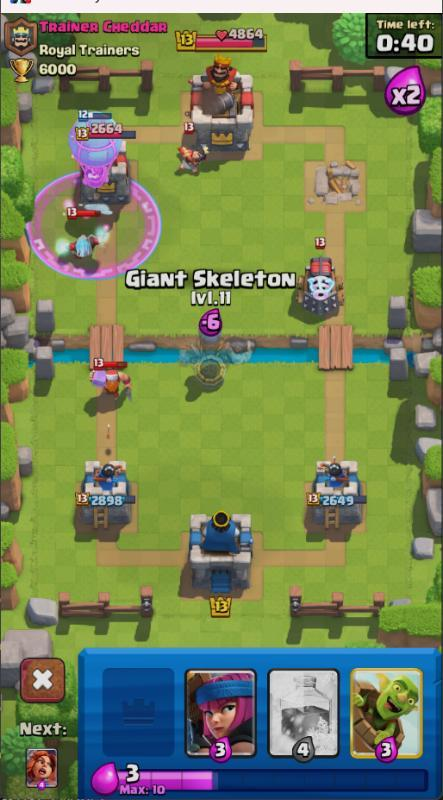enemy_ice_wizard: (57, 206, 111, 260)
enemy_lumberjack: (82, 354, 138, 401)
enemy_princess: (171, 141, 209, 177)
enemy_sparky: (294, 255, 345, 313)
player_ballon: (65, 111, 124, 186)
rage: (24, 168, 169, 280)
